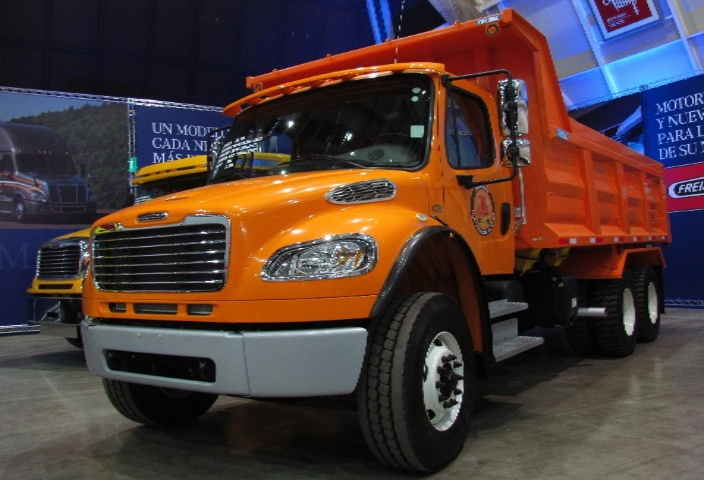truck: (58, 15, 687, 469)
